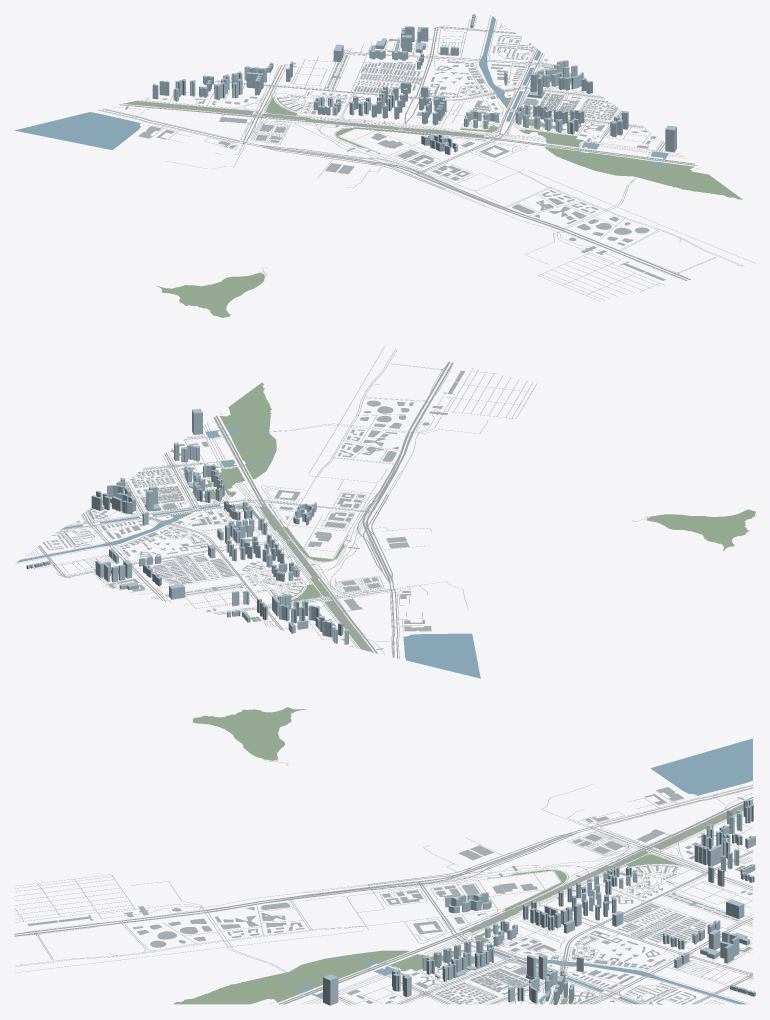
Rendered from overview-known--5_0.glb.
The picture shows the model from 3 angles, top to bottom: view 1: azimuth 30°, elevation 25°; view 2: azimuth 150°, elevation 25°; view 3: azimuth 270°, elevation 25°; orthographic projection. The views are drawn at different scales.
Size of the model in its own units: 3812 by 151 by 4002.
